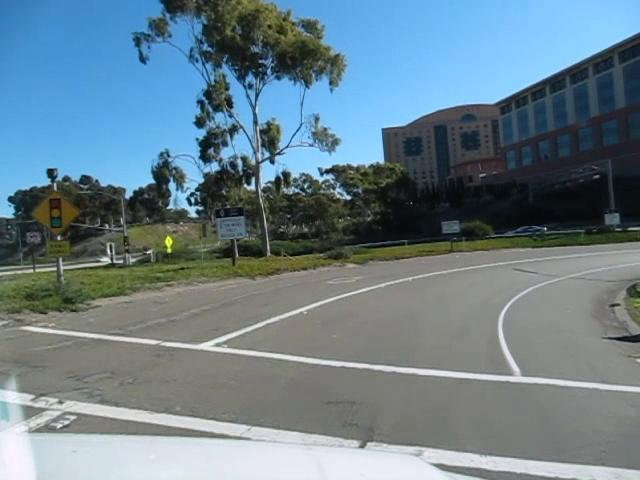signalAhead: (30, 189, 82, 237)
